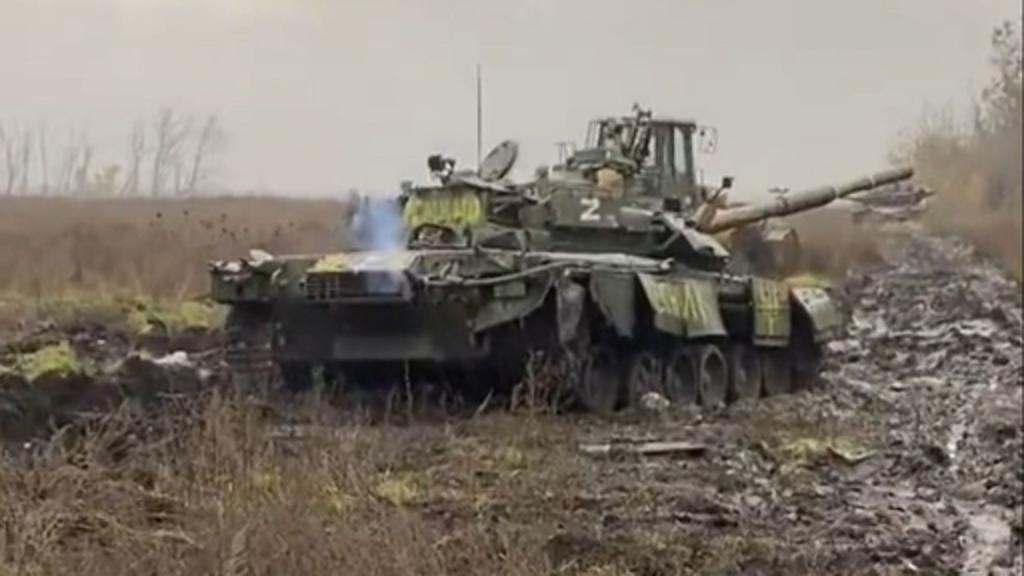TANK: (224, 134, 926, 426), (826, 180, 932, 226)
